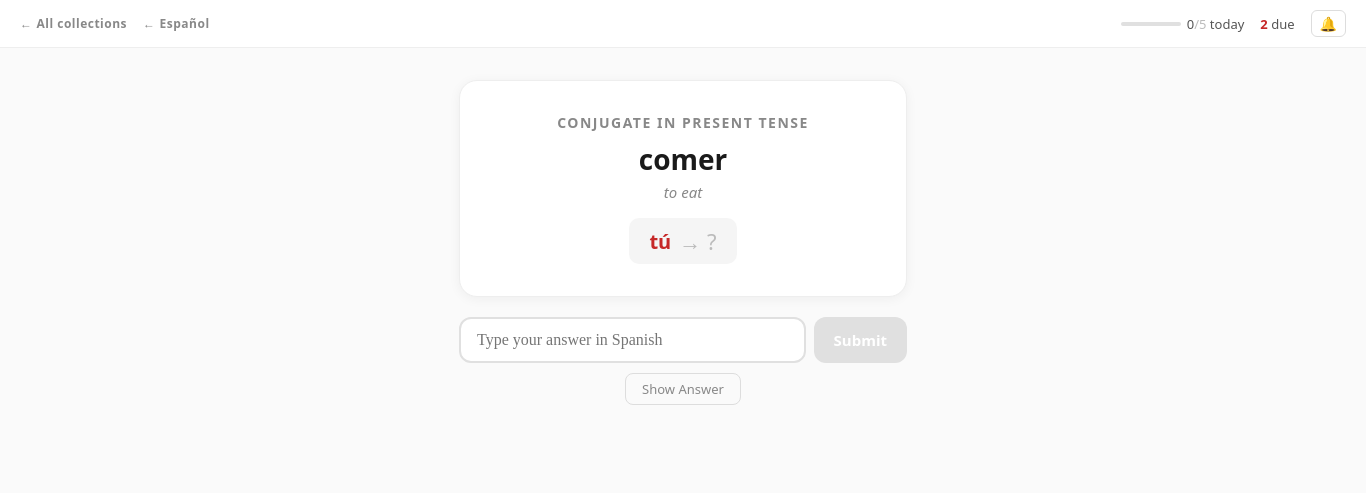
Test: Practice surface › typed-correct does NOT auto-advance — feedback stays until Continue
This screenshot has width=1366, height=493.
Type "comes" into the field labelled "Type your answer in Spanish" at (632, 340), box [459,317,806,363]
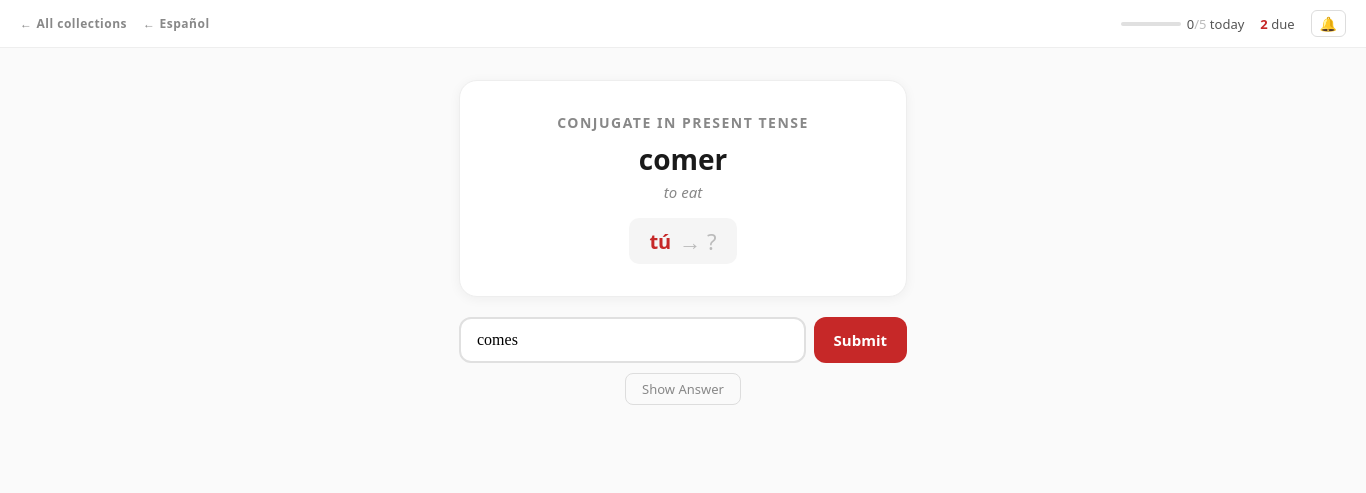
Click the button with aria-label "submit answer" at (860, 340), box [814,317,907,363]
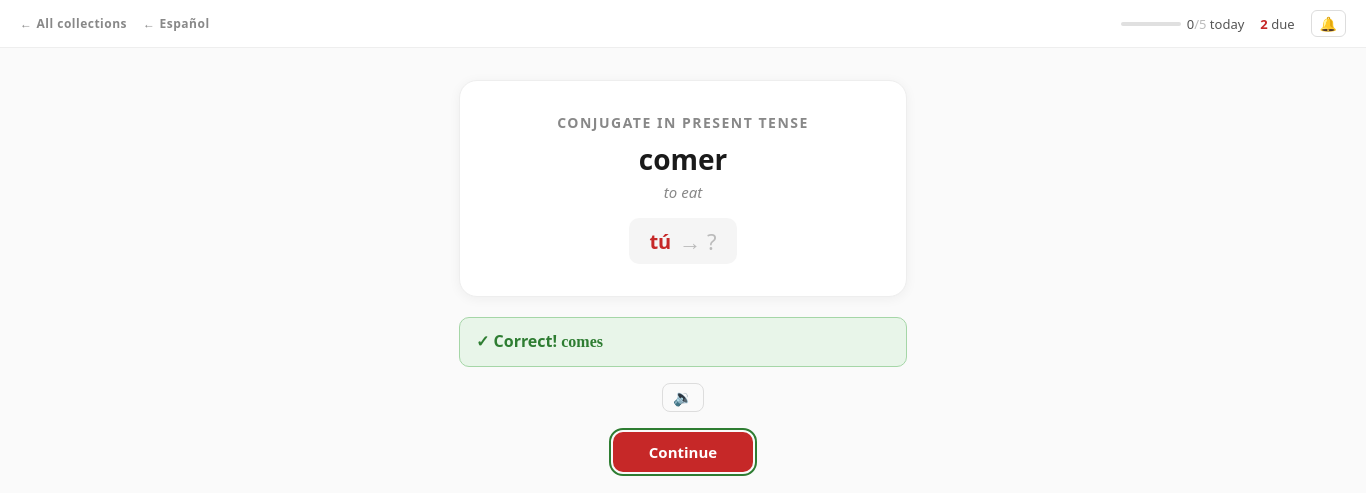
Result: the element with test id "answer-feedback" is shown at [459,317,907,367]
Result: the button "Continue" is shown at [613,432,753,472]
